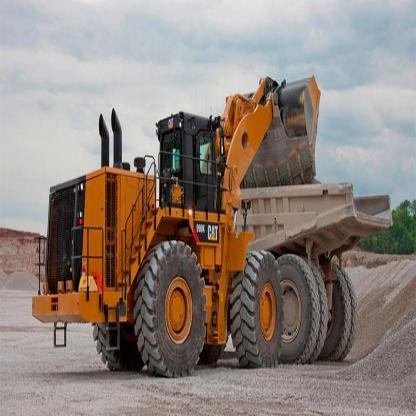bull_dozer/loader/grader: (31, 57, 325, 387)
